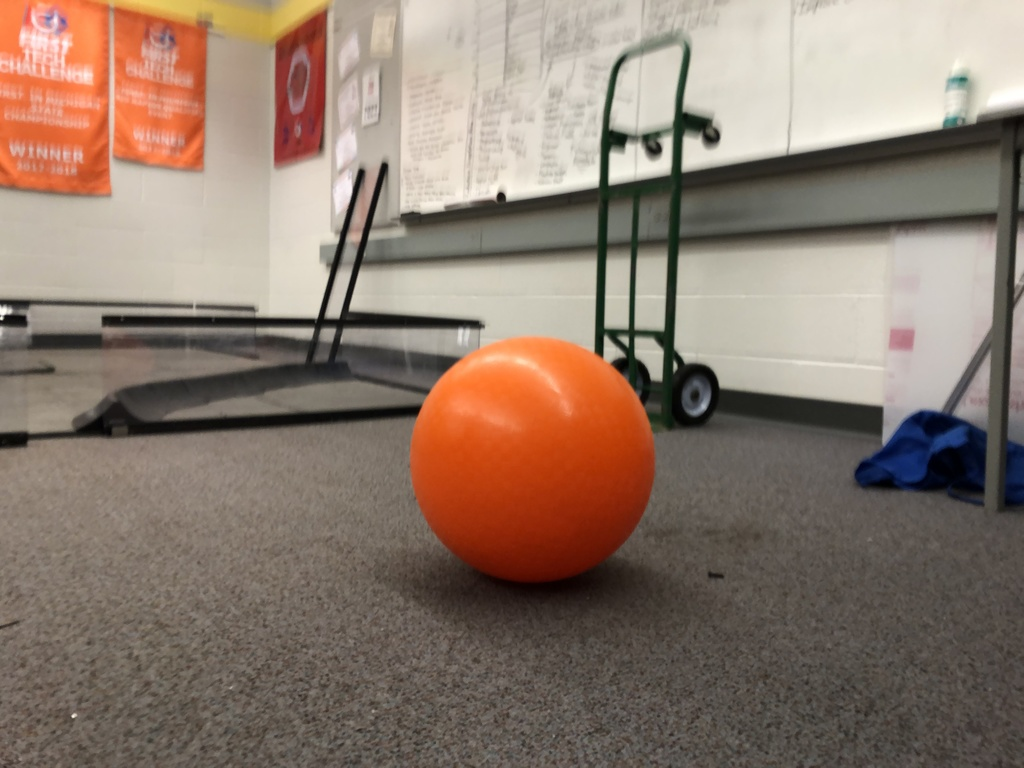cargo: (409, 323, 675, 611)
